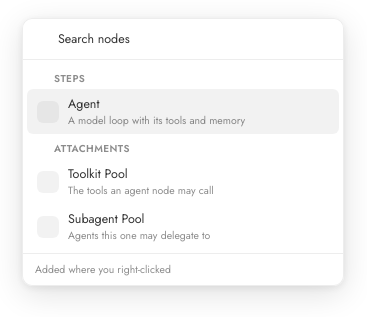
Test: node palette › an empty search in an agent graph says so without inventing a rule
Type "zzz-no-such-node" into the field labelled "Search nodes" at (194, 39), box 56,29 -> 331,49
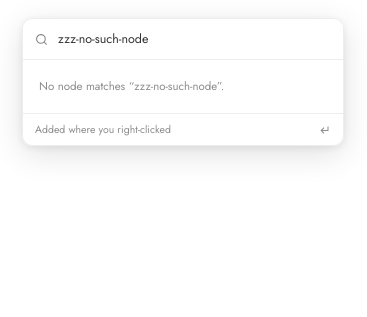
Result: the text "No node matches “zzz-no-such-node”." is shown at 39,78 -> 224,94
